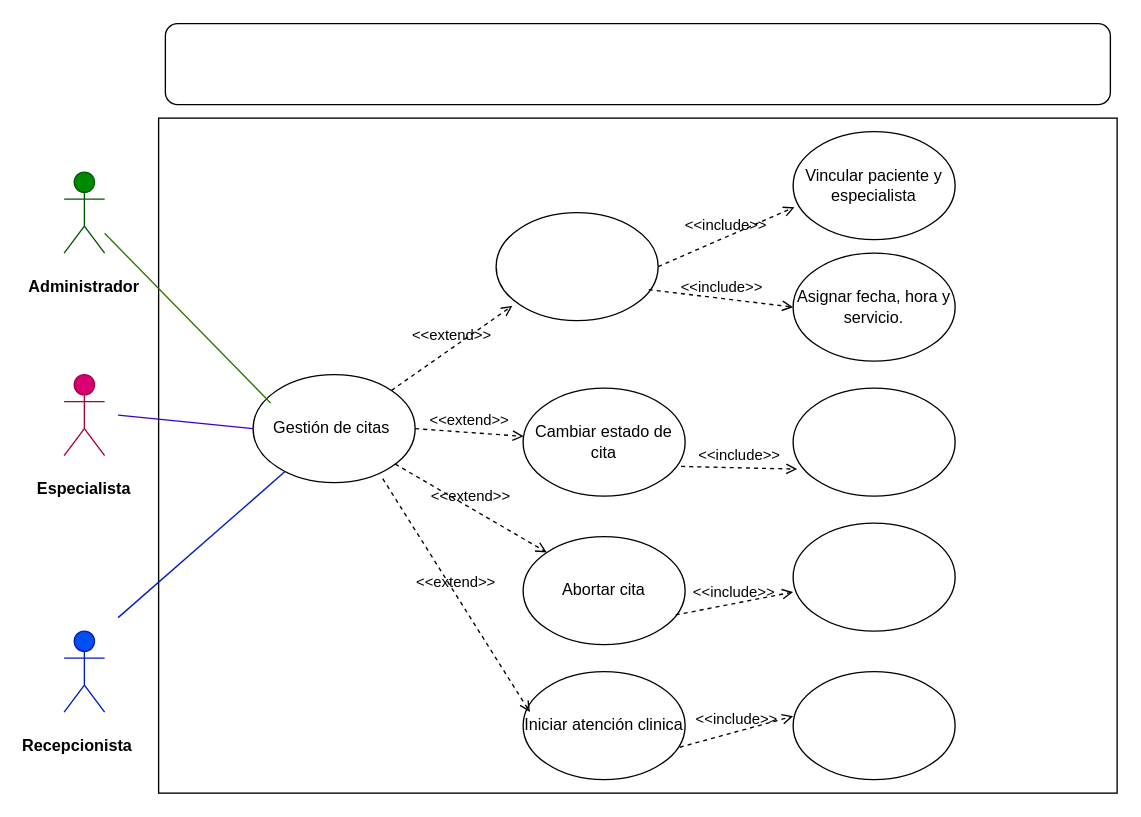
Some shapes in this 1141 by 817 pixel diagram are drawn without their labels. The shapes that lost their labels are listed below. From the top down, each one's centre as x and y in pixels, then its label:
At [637,63]: "Diagrama de caso de uso - Módulo de Gestión de citas".
At [576,266]: "Crear y agendar nueva cita".
At [873,441]: "Confirmar, Iniciar o marcar No Asistió".
At [873,576]: "Registrar nota del motivo de cancelación".
At [873,725]: "Abrir progreso clinico".
